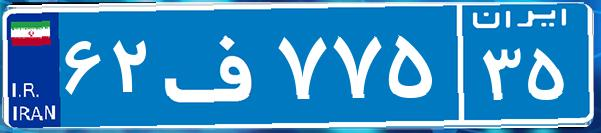2: (110, 28, 158, 105)
3: (475, 38, 525, 113)
5: (385, 28, 445, 110), (525, 38, 570, 115)
6: (57, 26, 110, 107)
7: (273, 28, 330, 110), (330, 28, 385, 110)
ف: (158, 15, 273, 115)
